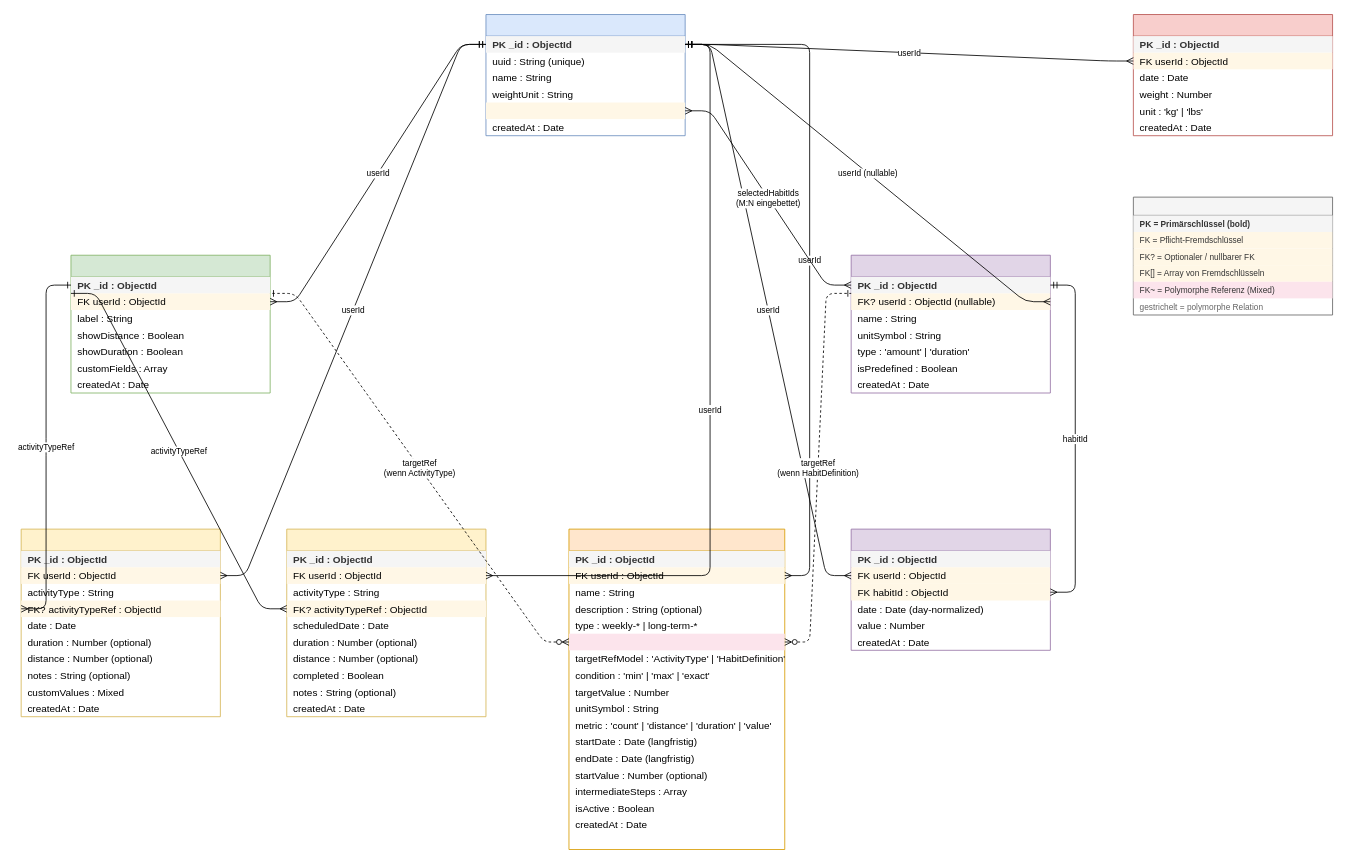
Some shapes in this 1347 by 864 pixel diagram are drawn without their labels. Here are the shapes that lost their labels. From the top down, the box of each, then its label:
(485, 14, 685, 136): User
(1133, 14, 1333, 136): WeightLog
(486, 102, 685, 119): FK[] selectedHabitIds : ObjectId[]
(1133, 196, 1333, 315): Legende
(70, 254, 270, 393): ActivityType
(850, 254, 1050, 393): HabitDefinition
(850, 528, 1050, 650): HabitLog
(20, 528, 220, 717): ActivityLog
(286, 528, 486, 717): ActivityPlan
(569, 633, 784, 650): FK~ targetRef : Mixed (polymorphic)
(568, 528, 785, 850): Goal
